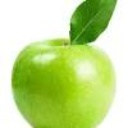apple: (8, 37, 119, 128)
